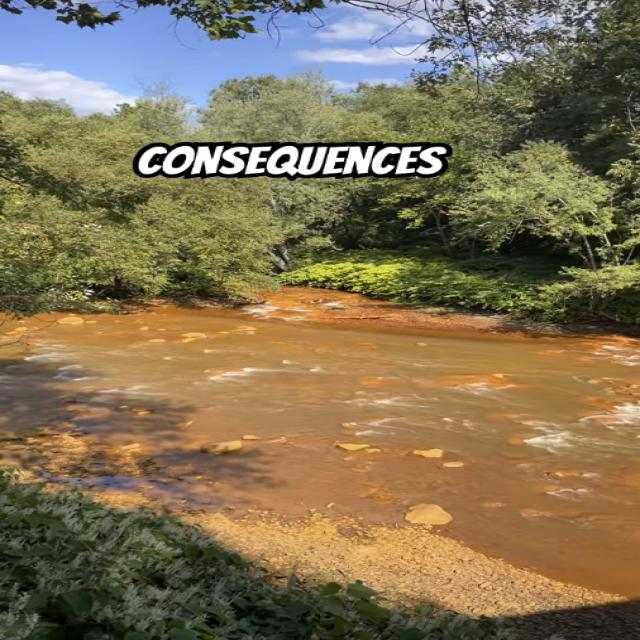yellow_boy: (0, 289, 639, 596)
